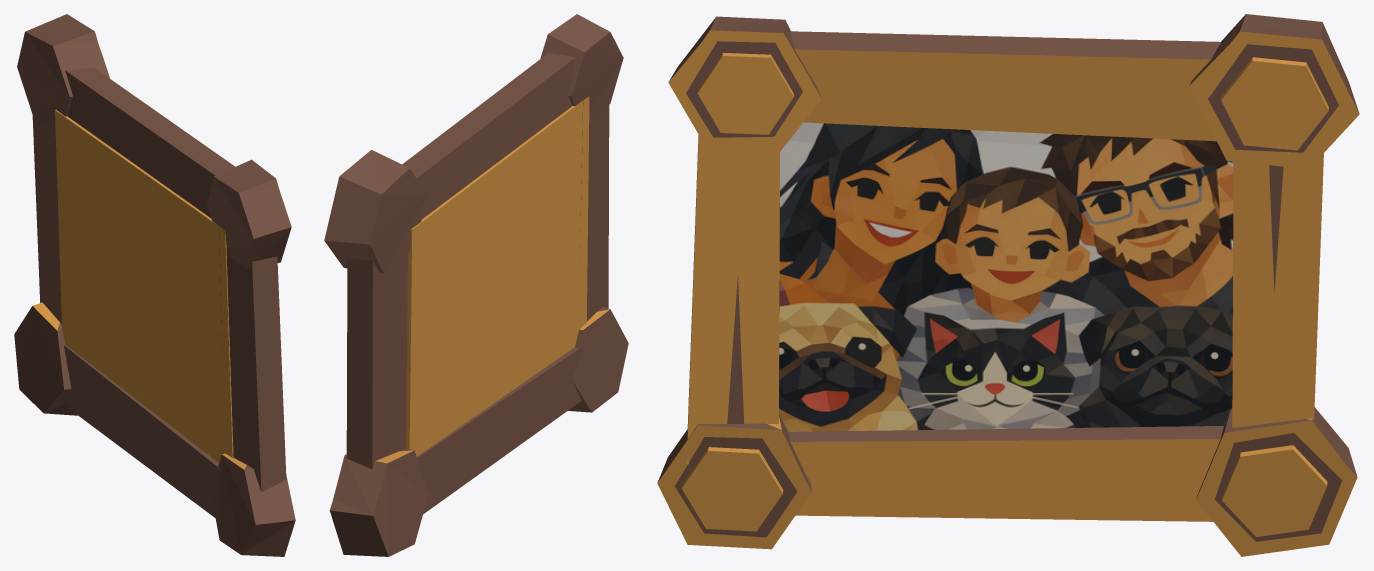
The model's file is picture_frame.glb.
The picture shows the model from 3 angles, left to right: view 1: azimuth 30°, elevation 25°; view 2: azimuth 150°, elevation 25°; view 3: azimuth 270°, elevation 25°; orthographic projection. The views are drawn at different scales.
Visible parts, largest first — view 1: Painting; view 2: Painting; view 3: Painting.
Part boxes in pixels (box(x1,y1,x2,y2)): Painting: box(14, 14, 295, 556); Painting: box(324, 14, 628, 556); Painting: box(657, 14, 1359, 556).
Bounding box in the file's own units: 0.1157 × 0.7532 × 0.9046.
3 materials, 1 textured.
